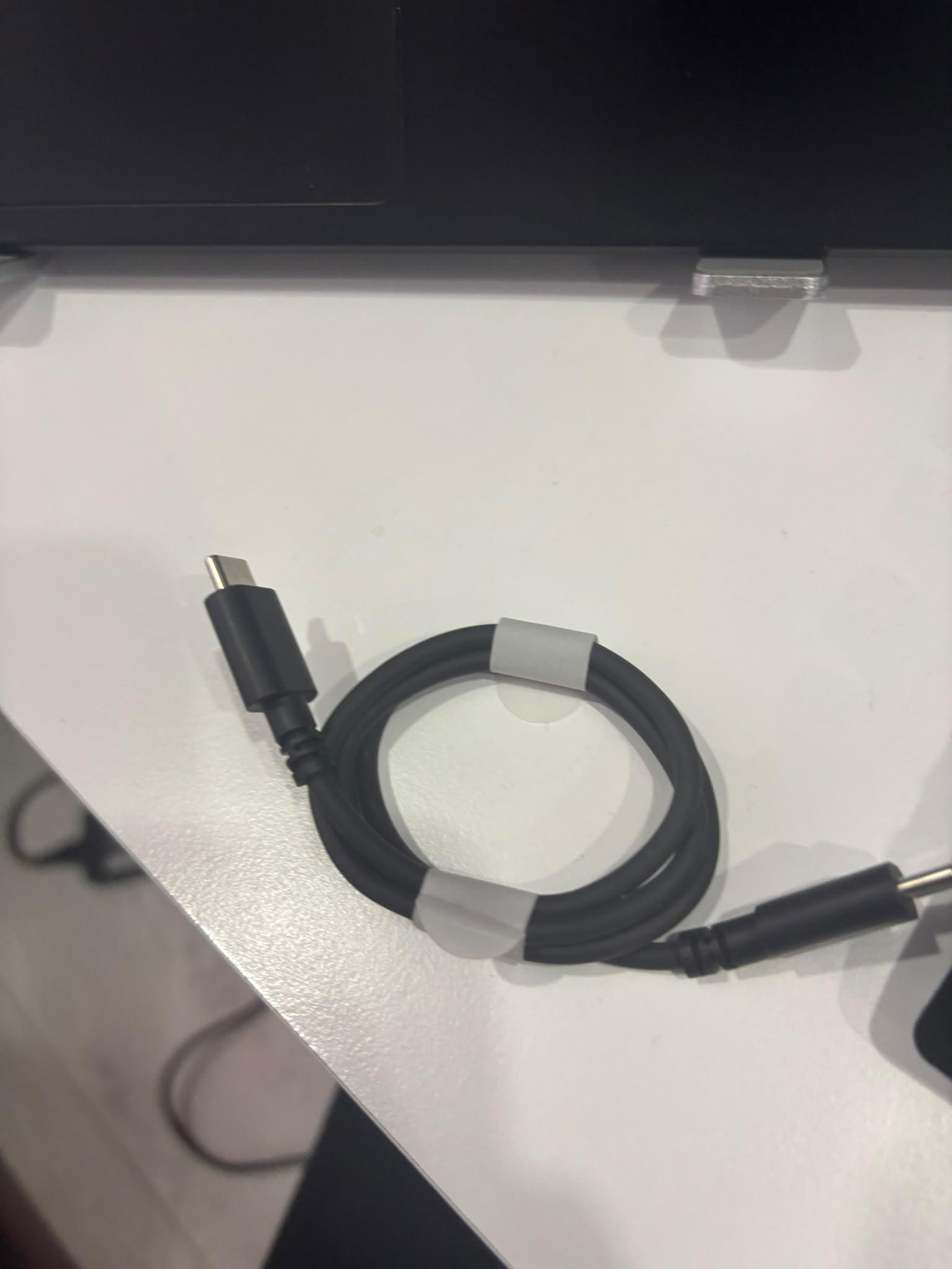cable: (202, 553, 951, 982)
